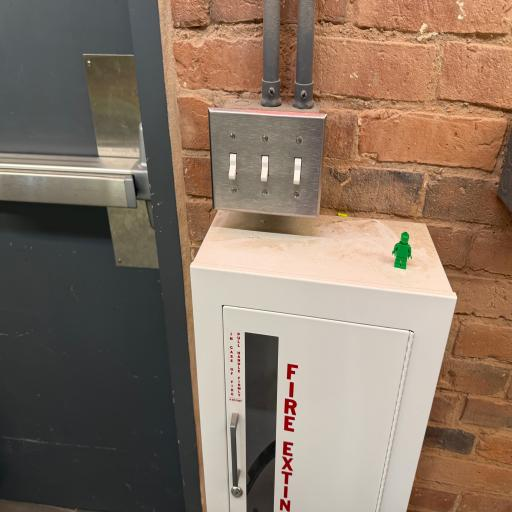Lego-Dude: (392, 232, 412, 269)
